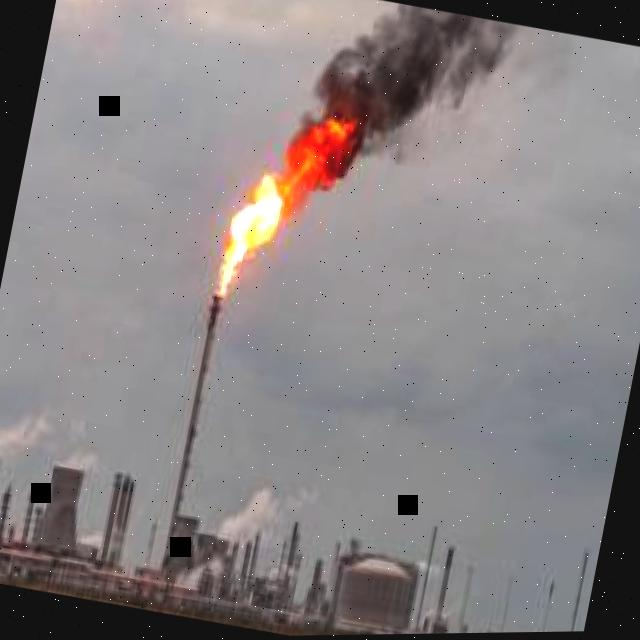fire: (215, 114, 362, 302)
smoke: (298, 4, 583, 181)
